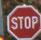Stop sign: (0, 0, 40, 39)
